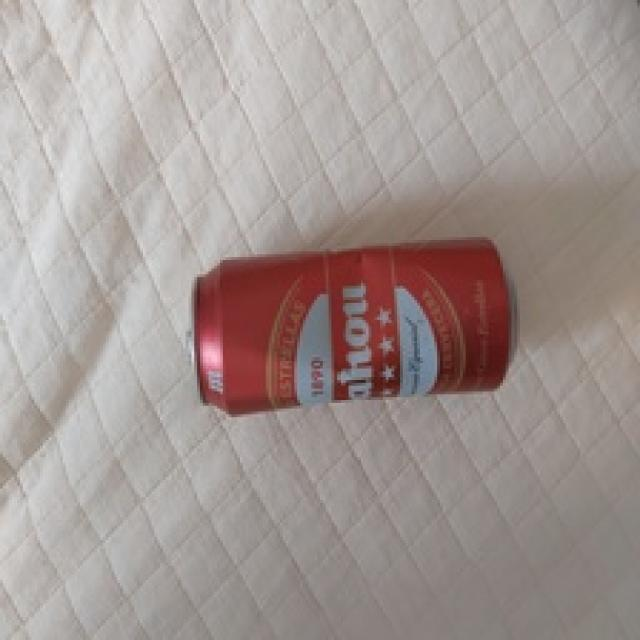recyclable: (192, 236, 520, 418)
